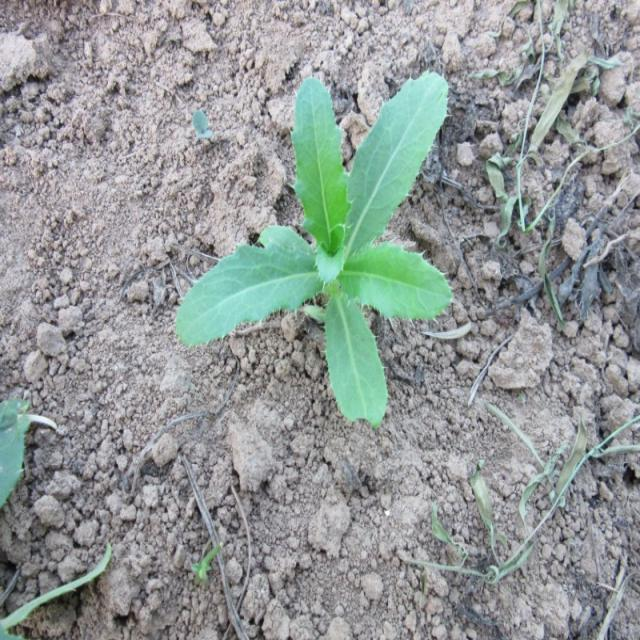cs: (171, 68, 455, 442)
